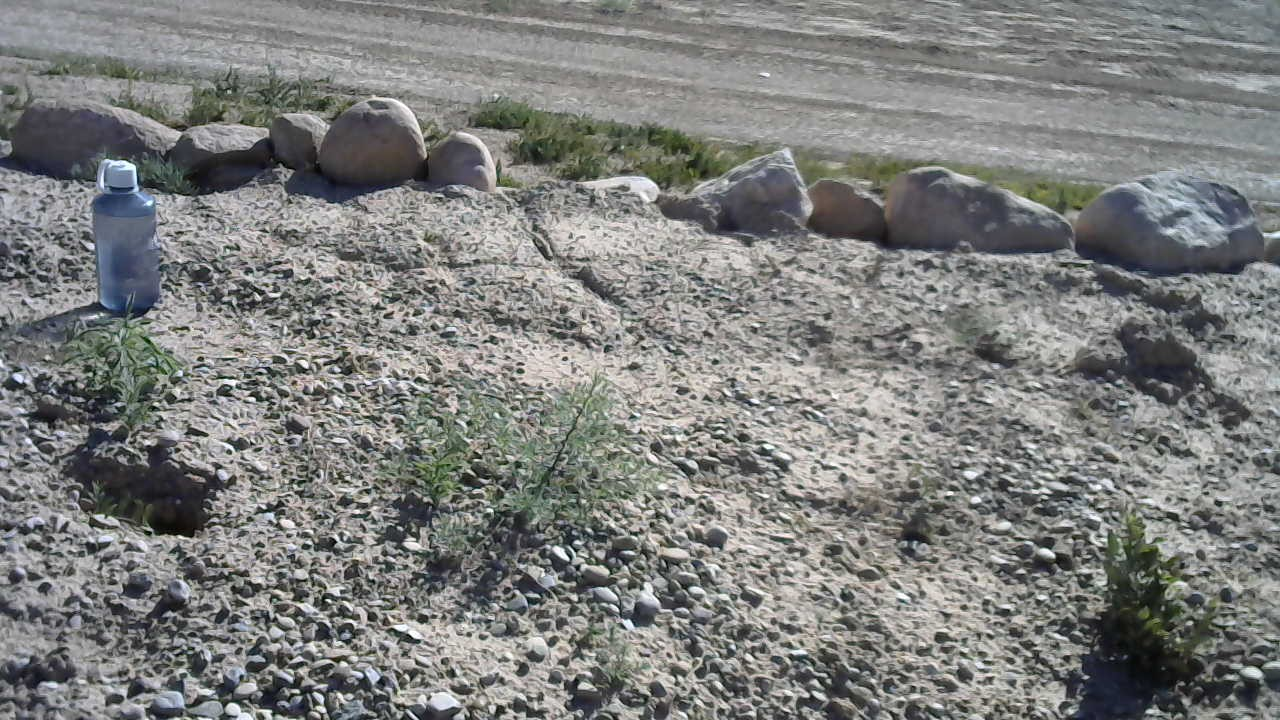bottle: (90, 146, 160, 317)
